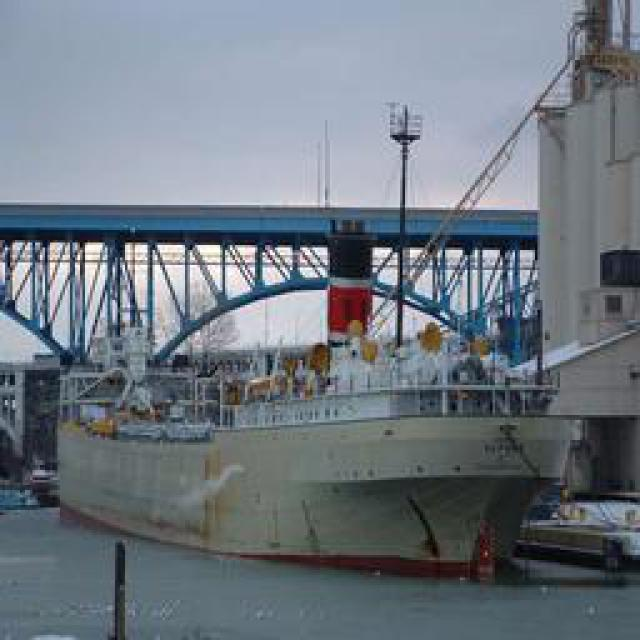Ship: (50, 211, 593, 559)
